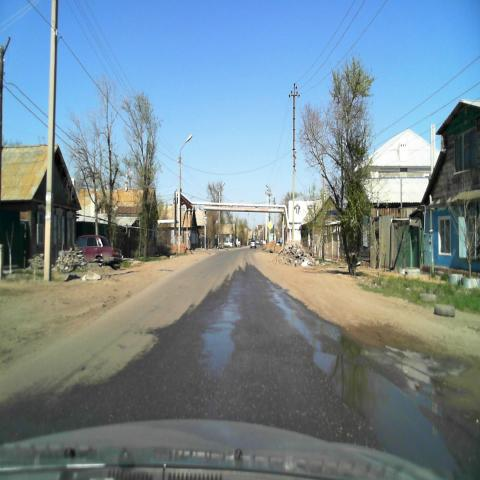2_1: (266, 220, 274, 231)
